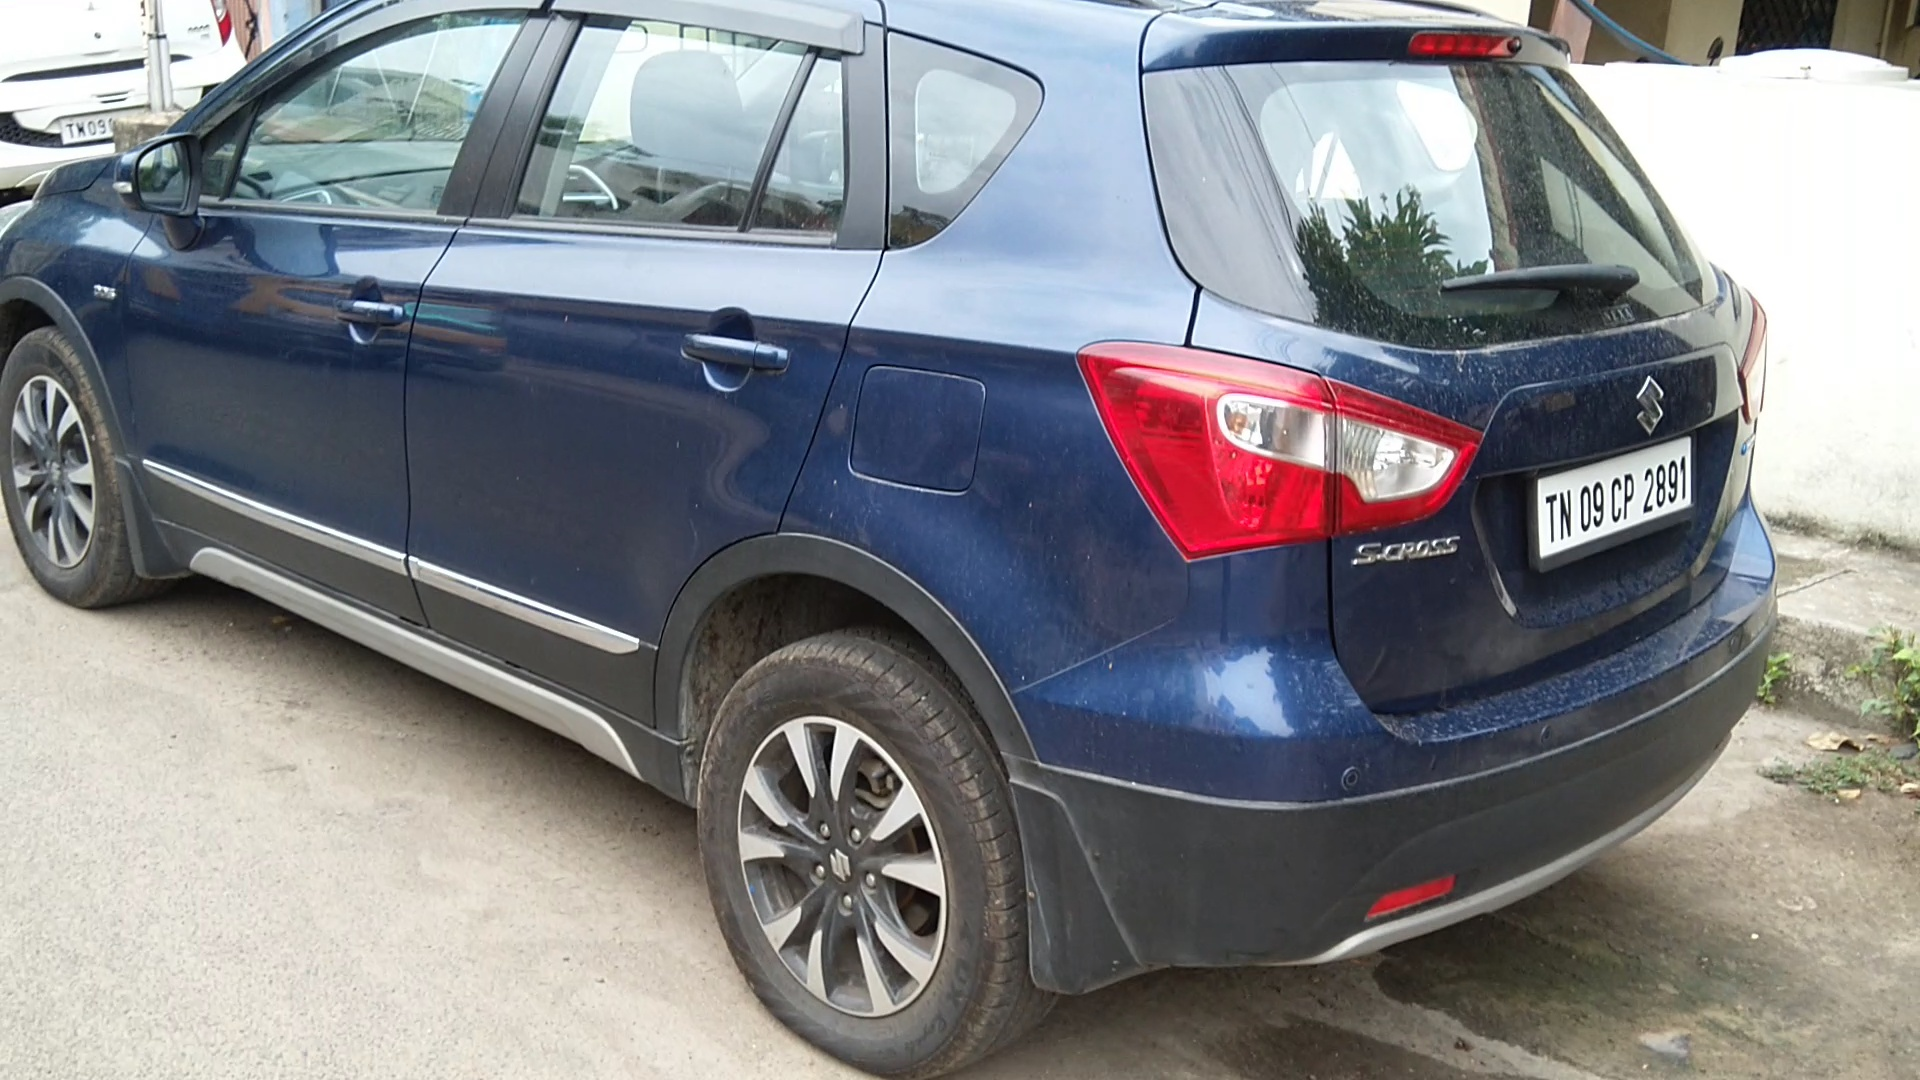alloy_wheel: (708, 632, 1017, 1080), (5, 322, 120, 605)
ovr_mirror: (108, 135, 191, 225)
rear_camera: (1503, 32, 1538, 66)
